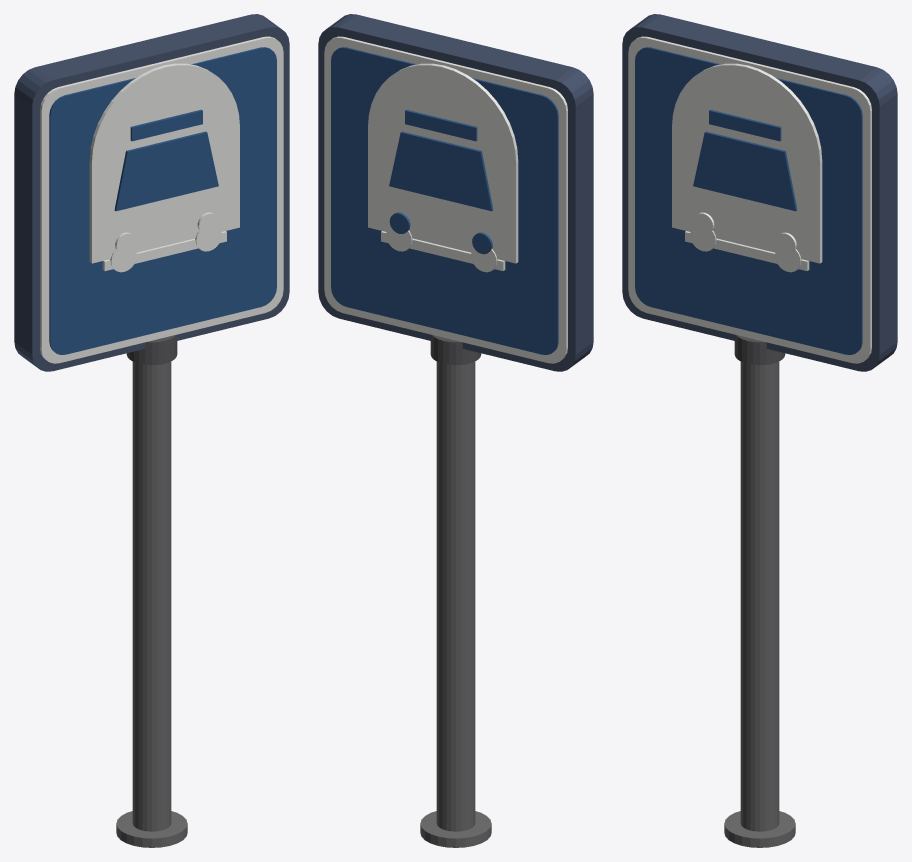
The model's file is 36-bus-stop-sign.glb.
3 views of the same model, side by side, from view 1: azimuth 30°, elevation 25°; view 2: azimuth 150°, elevation 25°; view 3: azimuth 330°, elevation 25° (orthographic).
Parts seen in each view (by area): view 1: FaceBlue_B, Pole, BusBody_B, SlabCore, RimWhite_B, Windshield_B, Flange, DestBand_B, Collar, Bumper_B; view 2: FaceBlue_F, Pole, BusBody_F, SlabCore, RimWhite_F, Windshield_F, Flange, DestBand_F, Collar, Bumper_F; view 3: FaceBlue_B, Pole, BusBody_B, SlabCore, RimWhite_B, Windshield_B, Flange, DestBand_B, Collar, Bumper_B.
Boxes of the visible parts, left/top/right/bottom form: FaceBlue_B: left=49, top=47, right=276, bottom=354; Pole: left=132, top=361, right=171, bottom=831; BusBody_B: left=89, top=63, right=239, bottom=263; SlabCore: left=14, top=14, right=289, bottom=371; RimWhite_B: left=40, top=36, right=283, bottom=363; Windshield_B: left=114, top=131, right=218, bottom=211; Flange: left=116, top=811, right=187, bottom=847; DestBand_B: left=130, top=109, right=202, bottom=141; Collar: left=126, top=335, right=177, bottom=365; Bumper_B: left=102, top=231, right=226, bottom=270; FaceBlue_F: left=331, top=47, right=558, bottom=354; Pole: left=436, top=361, right=475, bottom=831; BusBody_F: left=368, top=63, right=518, bottom=263; SlabCore: left=318, top=14, right=593, bottom=371; RimWhite_F: left=324, top=36, right=567, bottom=363; Windshield_F: left=389, top=131, right=493, bottom=211; Flange: left=420, top=811, right=491, bottom=847; DestBand_F: left=405, top=109, right=477, bottom=141; Collar: left=430, top=335, right=481, bottom=365; Bumper_F: left=381, top=231, right=505, bottom=270; FaceBlue_B: left=635, top=47, right=862, bottom=354; Pole: left=740, top=361, right=779, bottom=831; BusBody_B: left=672, top=63, right=822, bottom=263; SlabCore: left=622, top=14, right=897, bottom=371; RimWhite_B: left=628, top=36, right=871, bottom=363; Windshield_B: left=693, top=131, right=797, bottom=211; Flange: left=724, top=811, right=795, bottom=847; DestBand_B: left=709, top=109, right=781, bottom=141; Collar: left=734, top=335, right=785, bottom=365; Bumper_B: left=685, top=231, right=809, bottom=270.
Size of the model in its own units: 2 by 5.83 by 0.48.
